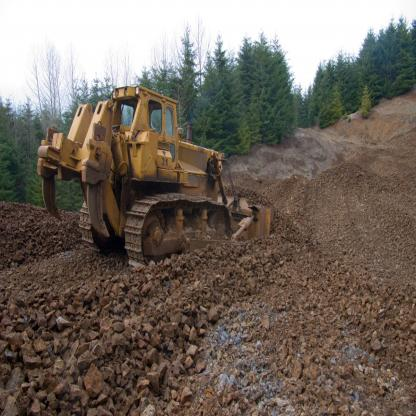bull_dozer/loader/grader: (40, 80, 292, 278)
